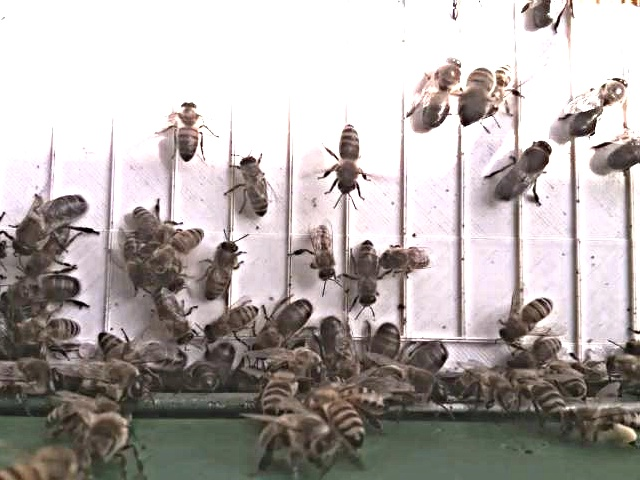Drone: (11, 190, 90, 257), (249, 296, 314, 362), (493, 135, 555, 202), (568, 73, 630, 138), (0, 268, 85, 315), (420, 51, 466, 130), (318, 311, 362, 382)
Worker: (151, 280, 197, 347), (498, 291, 558, 342), (203, 235, 242, 300), (202, 300, 260, 343), (154, 223, 209, 268), (334, 118, 365, 196), (351, 238, 382, 309), (241, 153, 272, 220), (174, 96, 205, 163), (310, 223, 339, 281), (382, 242, 433, 272)
